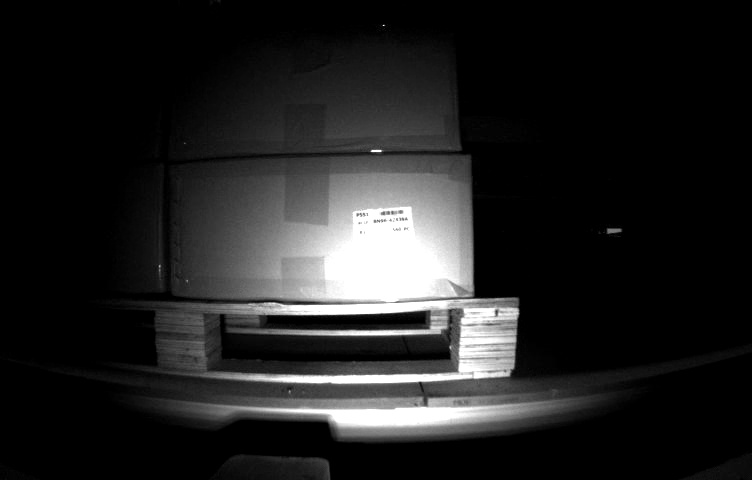True Barcode: (350, 206, 418, 260)
